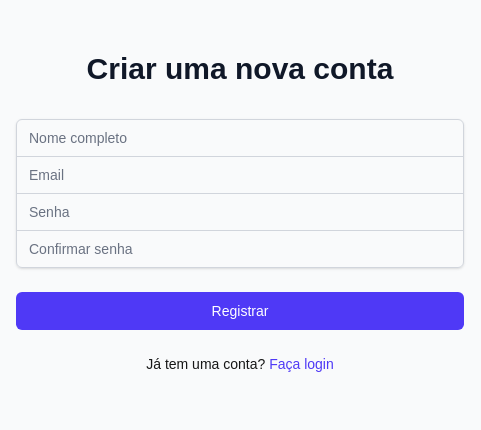
Test: Register › should show error message on password mismatch
Step 1. Type "Teste" into the field labelled "Nome completo" → (240, 138), box [16,118,464,156]
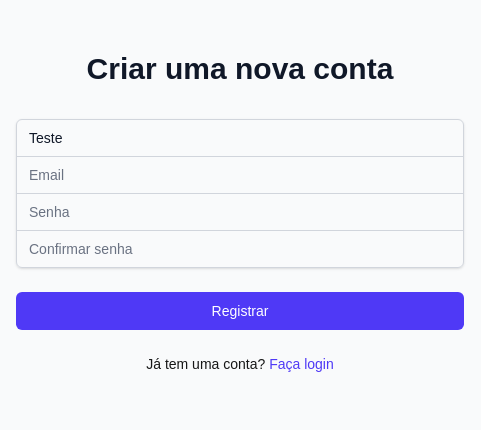
Step 2. Type "teste@teste.com" into the field labelled "Email" → (240, 174), box [16,156,464,194]
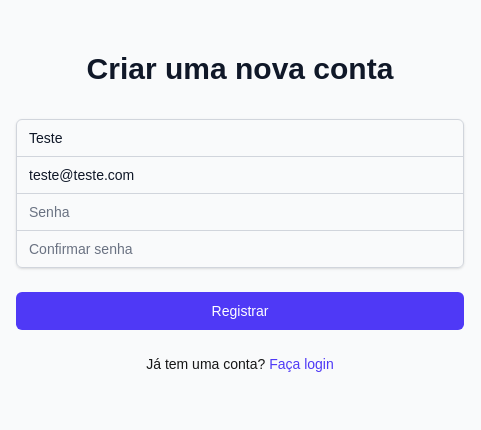
Step 3. Type "senha123" into the password field labelled "Senha" → (240, 212), box [16,192,464,230]
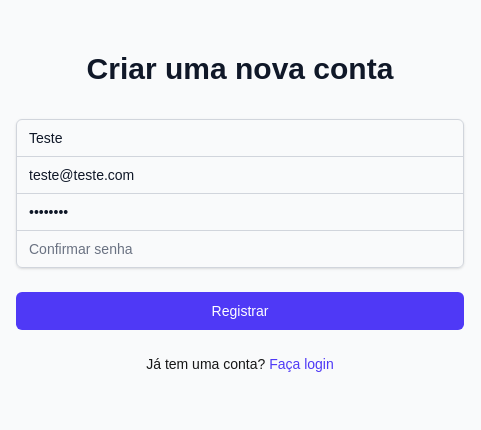
Step 4. Type "senhaerrada" into the password field labelled "Confirmar senha" → (240, 248), box [16,230,464,268]
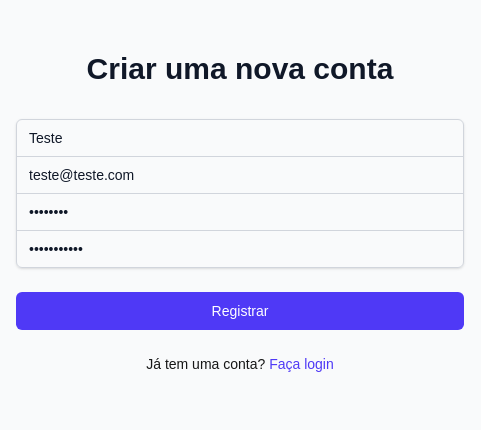
Step 5. Click the button "Registrar" → (240, 310), box [16,292,464,330]
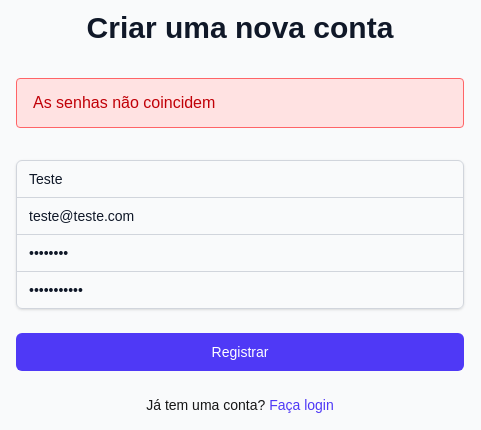
expect the text "As senhas não coincidem" is shown: met, box [33,94,215,110]
